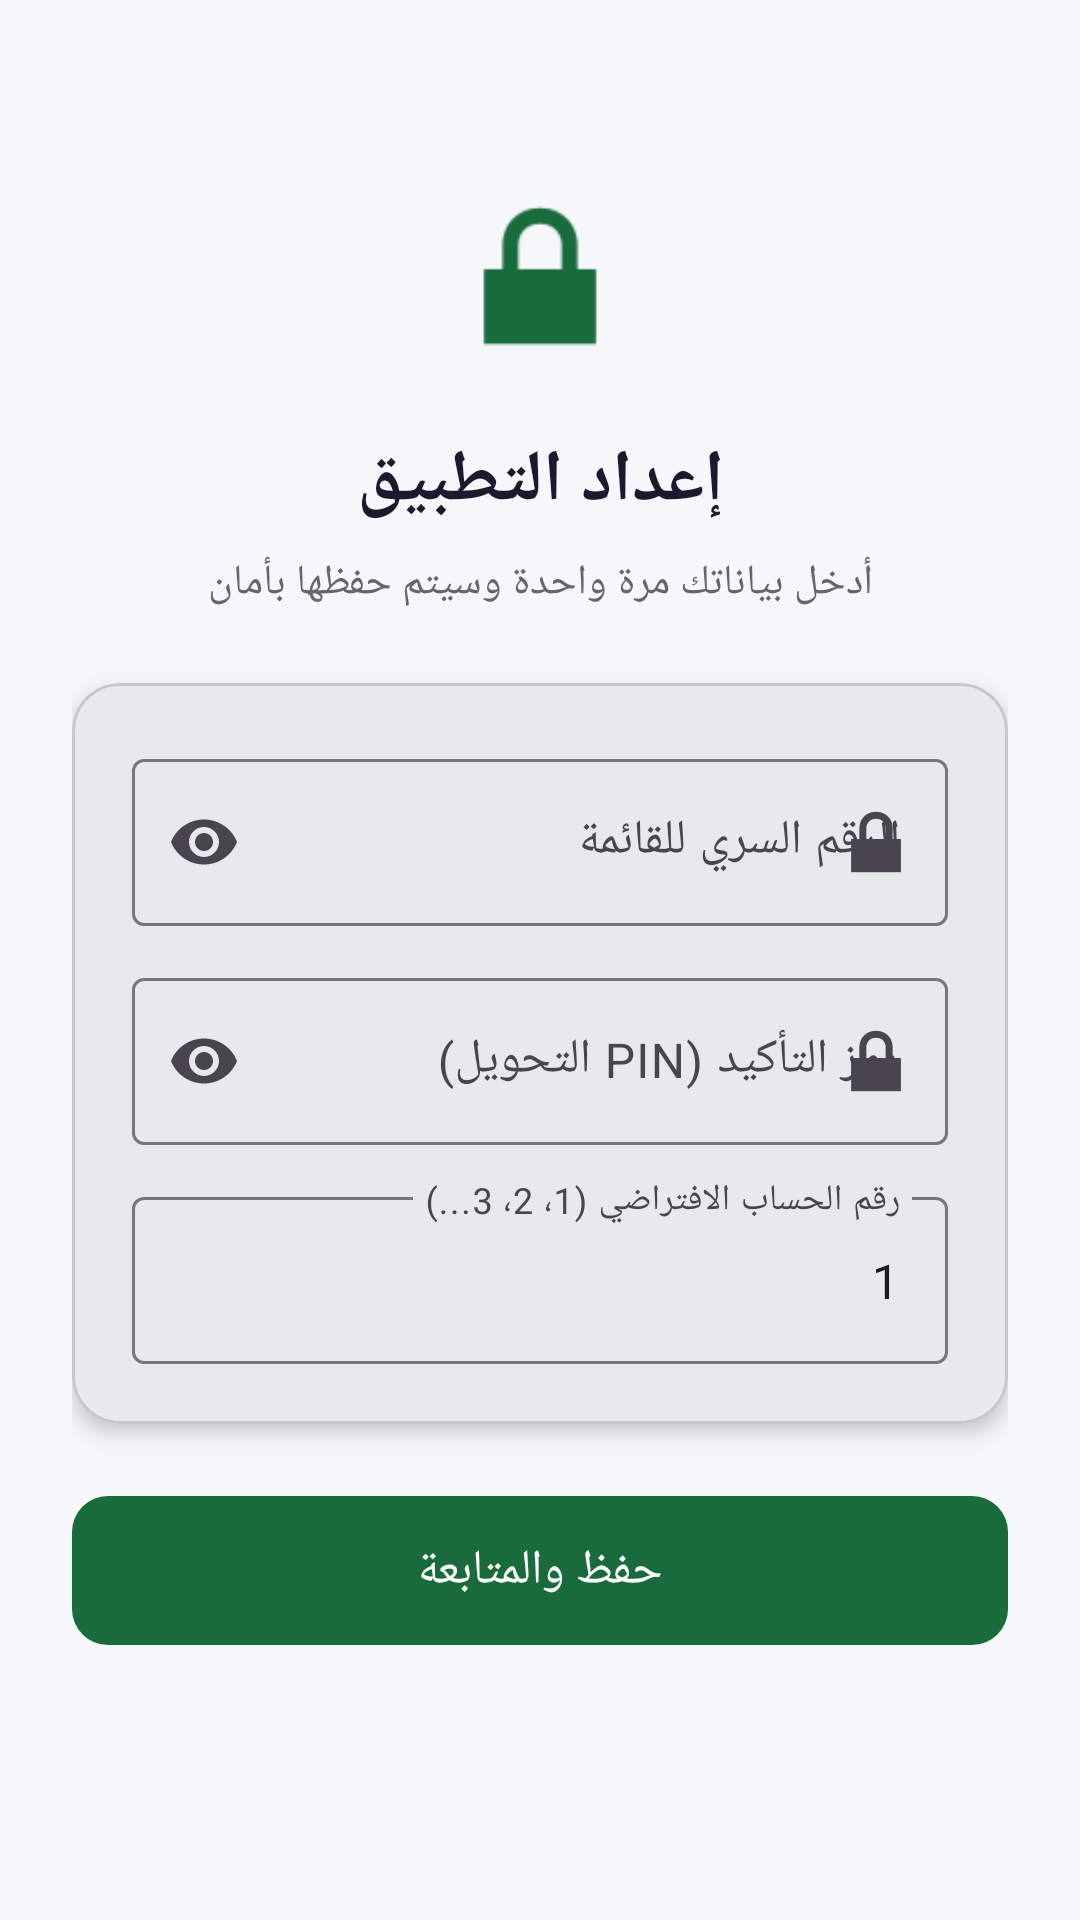

Point at icon controls on the screen. Image size 1080*1920, points as (x=x, y=y).
lock: (x=540, y=276)
